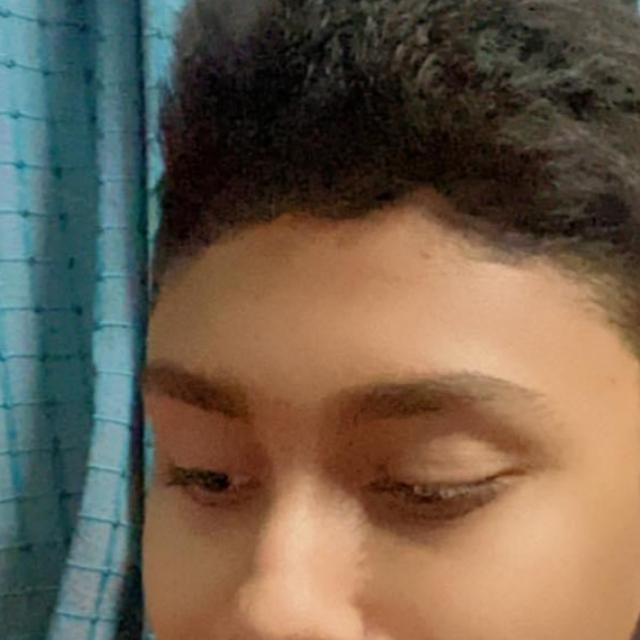Sad: (137, 220, 640, 640)
